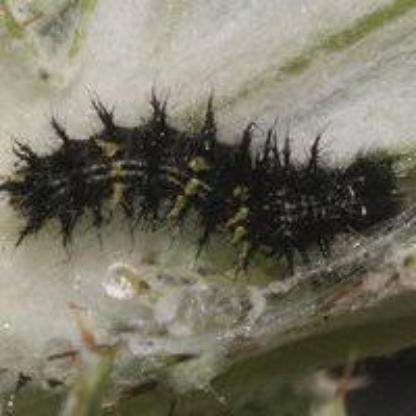oruga: (1, 100, 402, 262)
